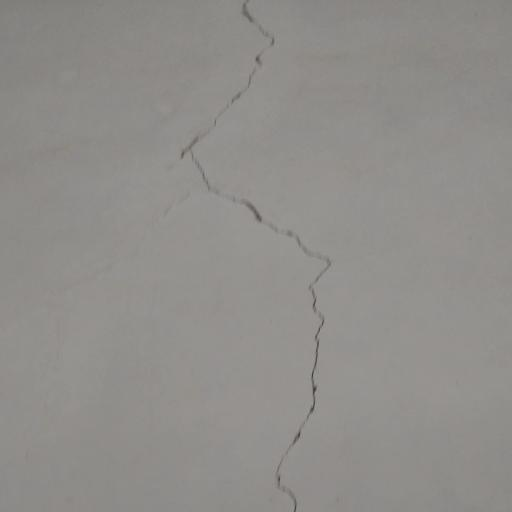minor_crack: (160, 0, 352, 512)
